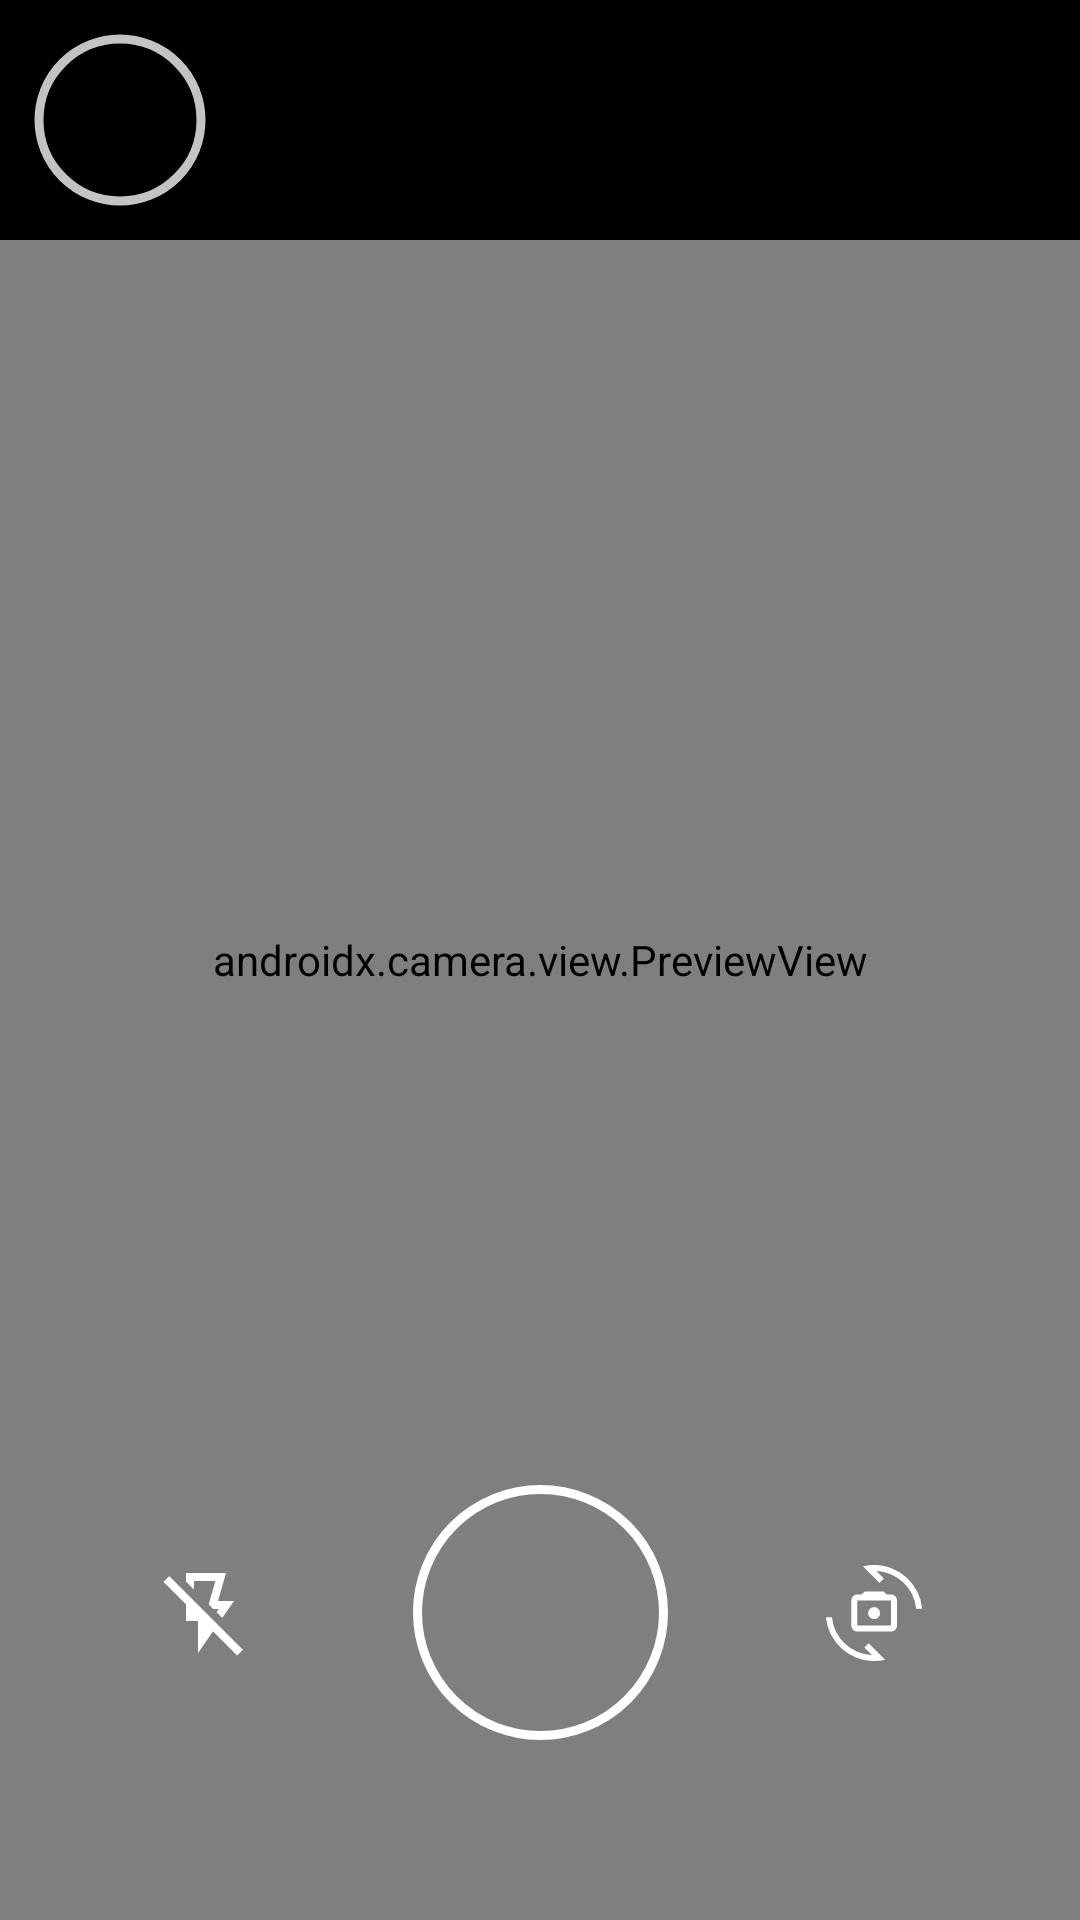

Point at icon controls on the screen. Image size 1080x1920, points as [x,y].
flash off: [203,1614]
switch camera: [874,1613]
